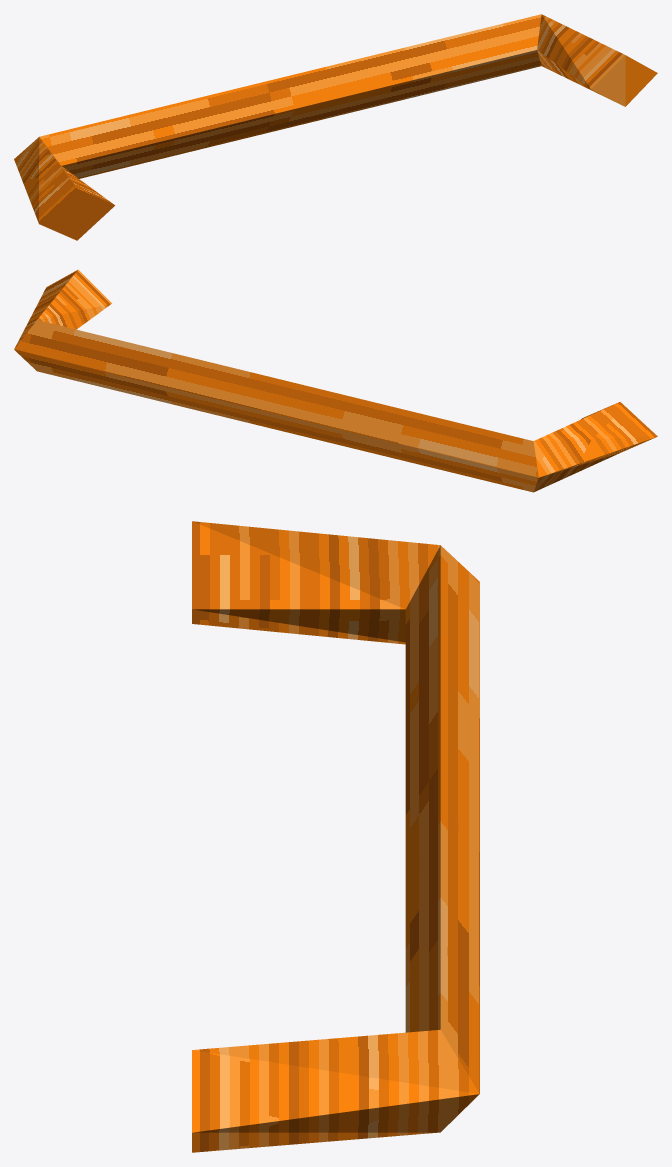
3 renders of one model, top to bottom at view 1: azimuth 30°, elevation 25°; view 2: azimuth 150°, elevation 25°; view 3: azimuth 270°, elevation 25°, orthographic. The views are drawn at different scales.
Parts seen in each view (by area): view 1: ss3d_38_brass_rail; view 2: ss3d_38_brass_rail; view 3: ss3d_38_brass_rail.
Boxes of the visible parts, box(x1,y1,x2,y2) form: ss3d_38_brass_rail: box(14, 14, 657, 240); ss3d_38_brass_rail: box(14, 269, 657, 492); ss3d_38_brass_rail: box(192, 521, 479, 1152).
Bounding box in the file's own units: 1.14 × 0.0914 × 0.232.
Materials: 1 (1 with a texture image).
